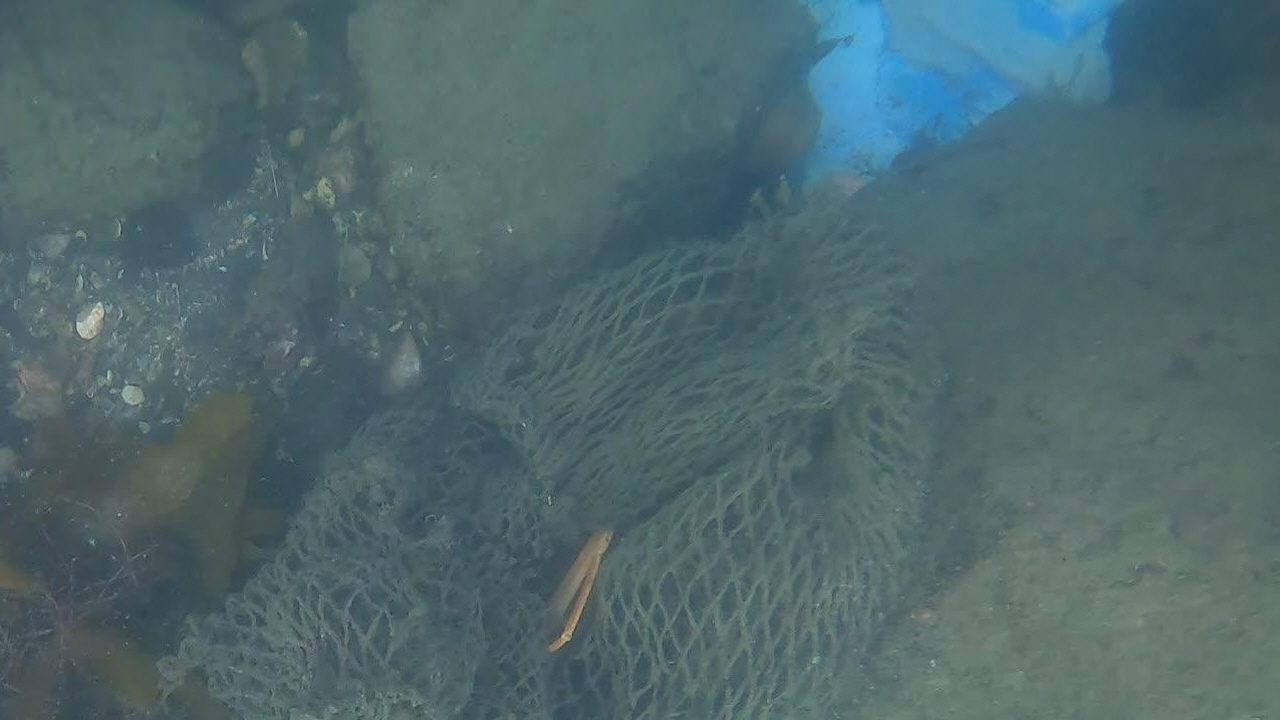fish net: (154, 198, 923, 720)
